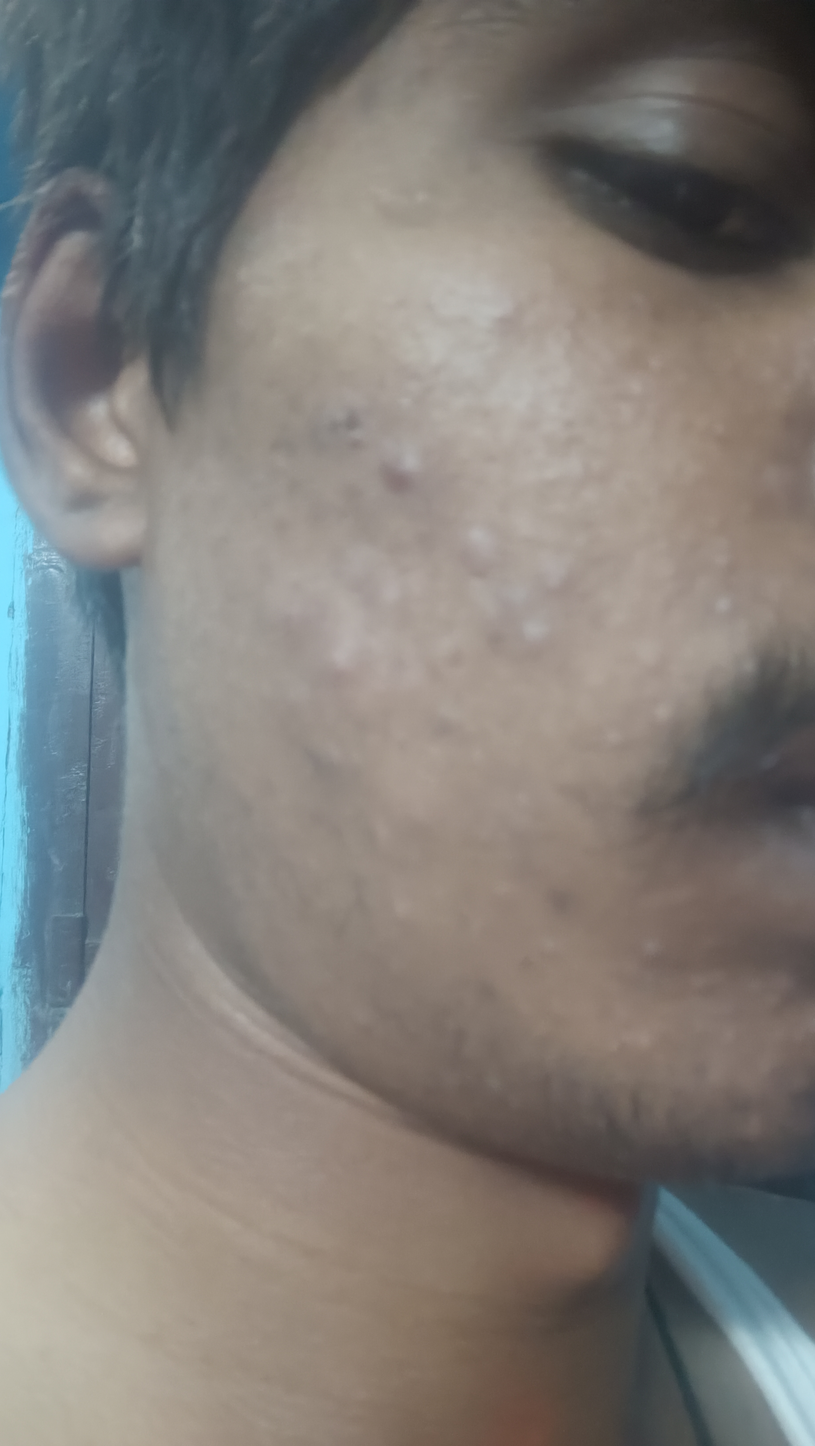nodule: (369, 443, 432, 495)
